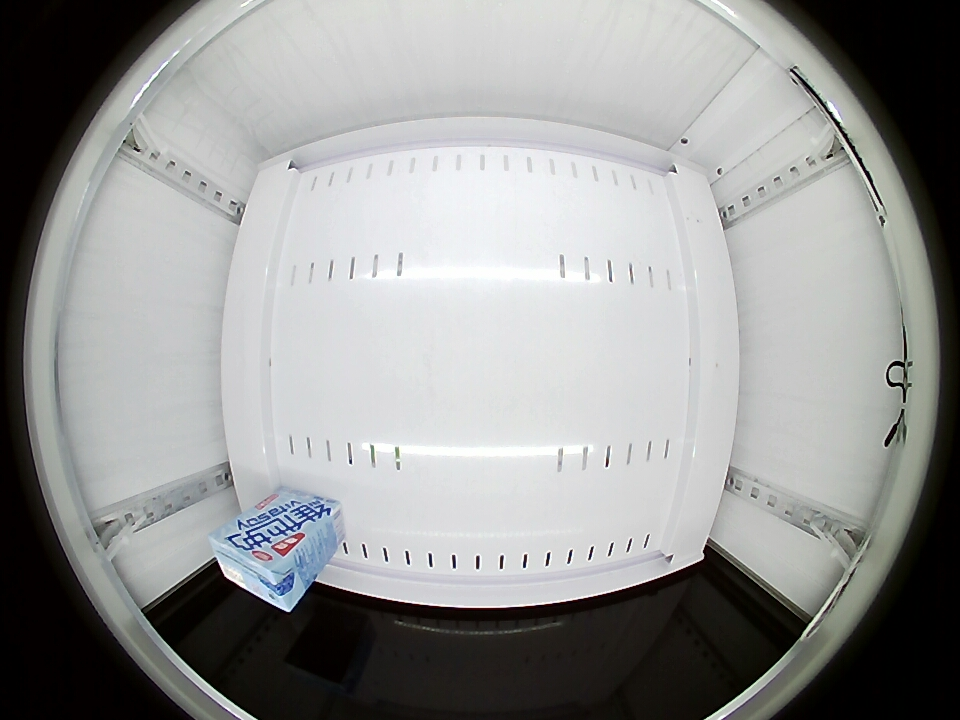weitanaiditang: (209, 519, 310, 612)
